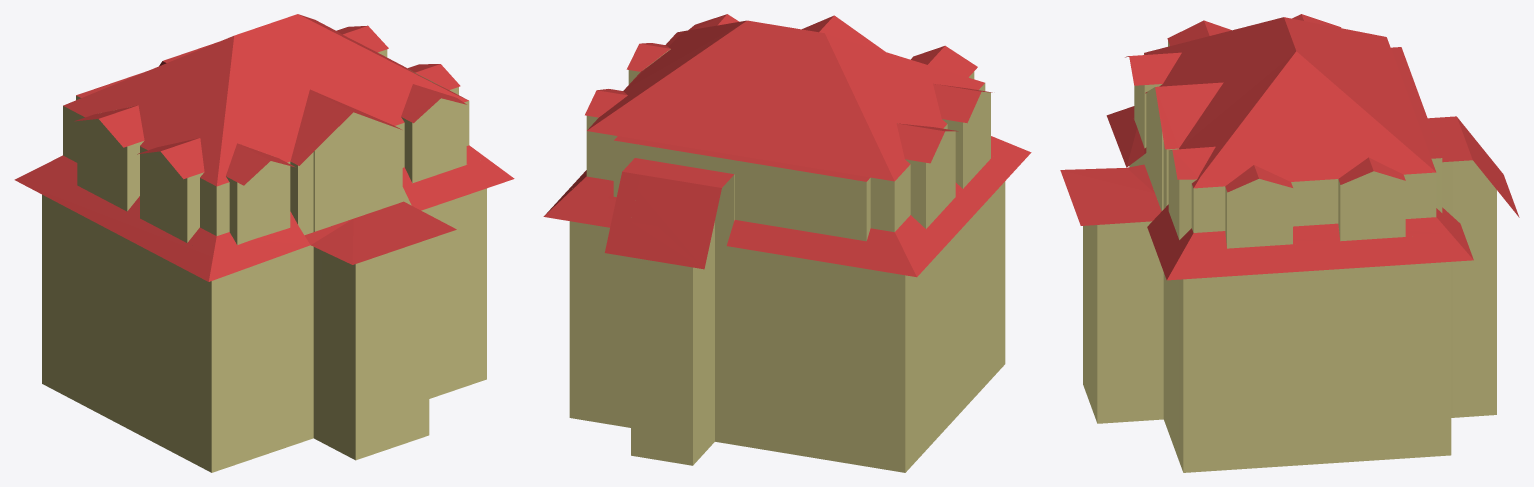
3 views of the same model, side by side, from view 1: azimuth 30°, elevation 25°; view 2: azimuth 150°, elevation 25°; view 3: azimuth 270°, elevation 25° (orthographic). The views are drawn at different scales.
Parts seen in each view (by area): view 1: group_7, group_45, group_41, group_9, group_13, group_5, group_29, group_17, group_39, group_43, group_33, group_31 (+9 smaller); view 2: group_41, group_7, group_37, group_9, group_33, group_39, group_5, group_29, group_35, group_36, group_40, group_32 (+6 smaller); view 3: group_7, group_33, group_25, group_21, group_45, group_31, group_37, group_9, group_17, group_43, group_35, group_44 (+9 smaller).
Boxes of the visible parts, bbox=[...] form: group_7: bbox=[63, 14, 468, 186]; group_45: bbox=[314, 239, 429, 460]; group_41: bbox=[42, 194, 297, 472]; group_9: bbox=[63, 95, 469, 443]; group_13: bbox=[226, 161, 290, 463]; group_5: bbox=[77, 119, 143, 428]; group_29: bbox=[140, 151, 203, 459]; group_17: bbox=[401, 98, 466, 398]; group_39: bbox=[14, 155, 310, 281]; group_43: bbox=[304, 201, 456, 264]; group_33: bbox=[402, 187, 486, 385]; group_31: bbox=[402, 145, 514, 210]; group_41: bbox=[734, 181, 1005, 472]; group_7: bbox=[587, 15, 984, 181]; group_37: bbox=[631, 174, 734, 465]; group_9: bbox=[586, 83, 985, 241]; group_33: bbox=[569, 221, 630, 427]; group_39: bbox=[726, 136, 1031, 277]; group_5: bbox=[905, 131, 955, 449]; group_29: bbox=[942, 91, 990, 409]; group_35: bbox=[611, 158, 733, 268]; group_36: bbox=[605, 159, 731, 269]; group_40: bbox=[727, 141, 1030, 276]; group_32: bbox=[543, 192, 615, 227]; group_7: bbox=[1144, 17, 1441, 188]; group_33: bbox=[1166, 262, 1451, 472]; group_25: bbox=[1225, 179, 1292, 469]; group_21: bbox=[1338, 171, 1405, 462]; group_45: bbox=[1083, 221, 1161, 423]; group_31: bbox=[1147, 204, 1473, 280]; group_37: bbox=[1442, 160, 1496, 417]; group_9: bbox=[1144, 54, 1442, 426]; group_17: bbox=[1168, 150, 1196, 460]; group_43: bbox=[1060, 164, 1161, 225]; group_35: bbox=[1428, 116, 1502, 184]; group_44: bbox=[1061, 168, 1159, 225].
Bounding box in the file's own units: 16.43 × 17.3 × 14.83.
